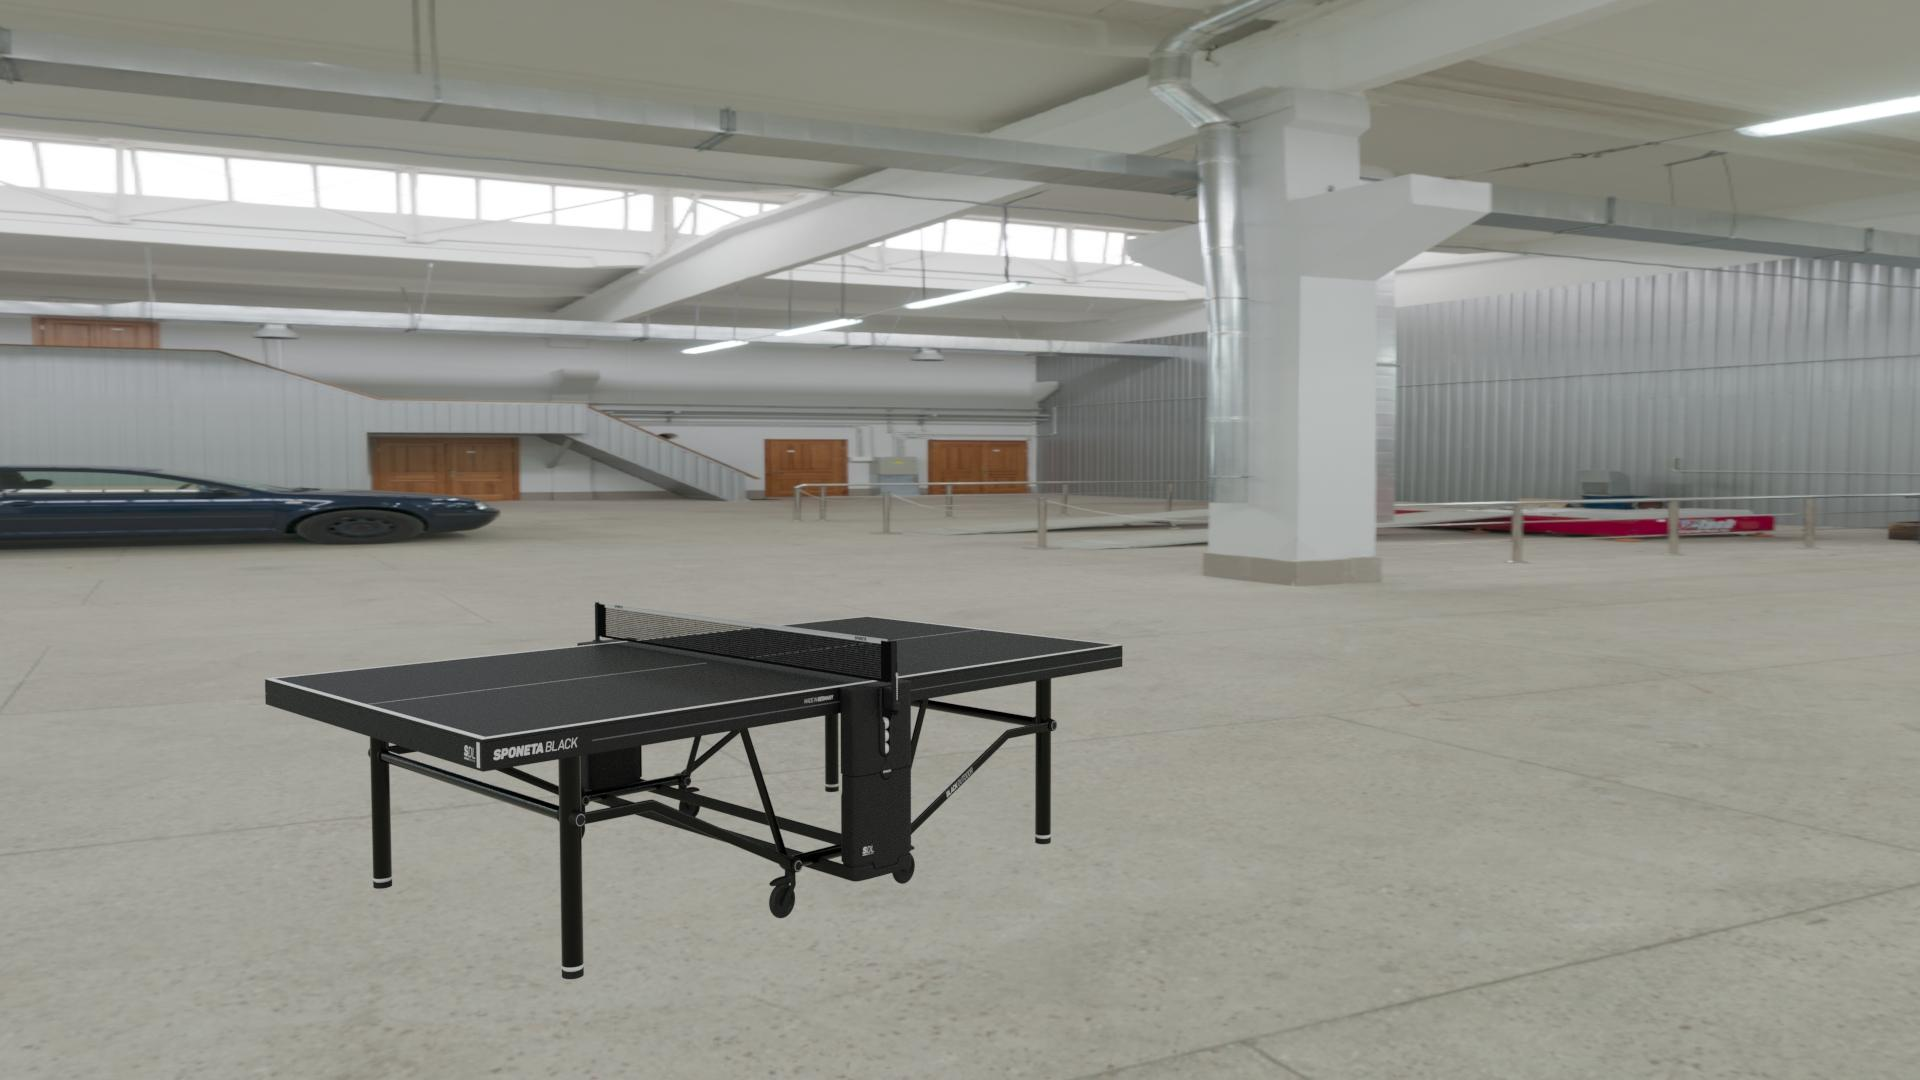table: (273, 617, 1116, 737)
